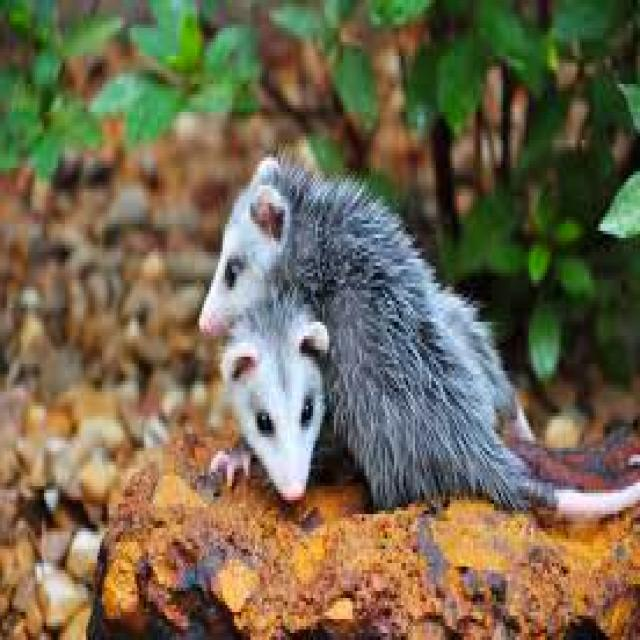possum: (202, 157, 614, 514), (216, 283, 329, 497)
